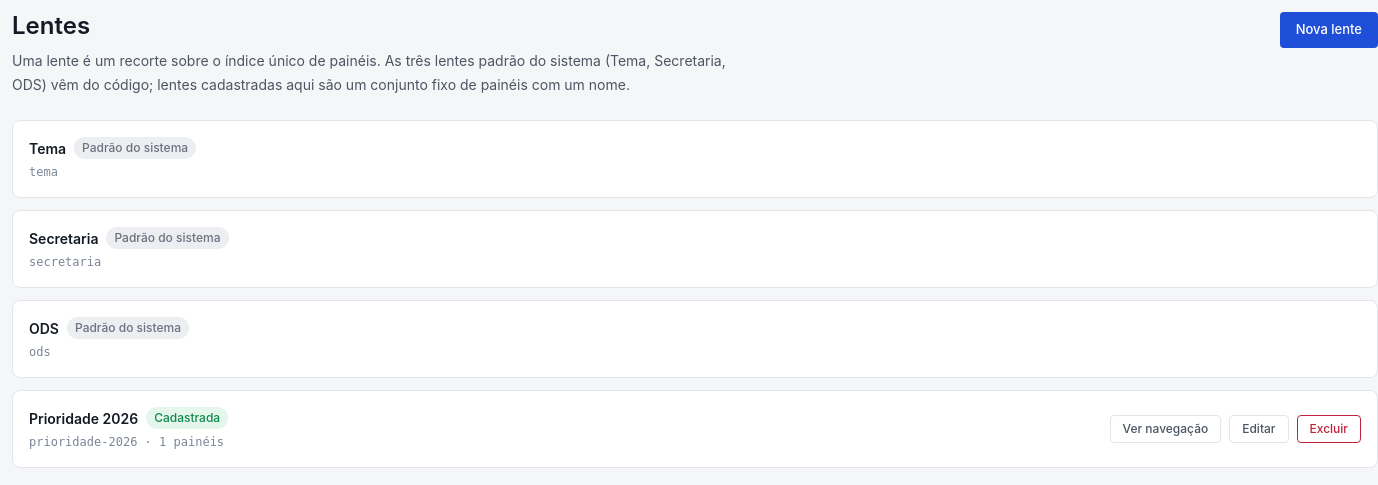
Test case: AdminLensesPage › exclui uma lente cadastrada após confirmação
The image size is (1378, 485).
Click the button "Excluir". click: (1329, 429)
box: top-left (1296, 415), bottom-right (1361, 443)
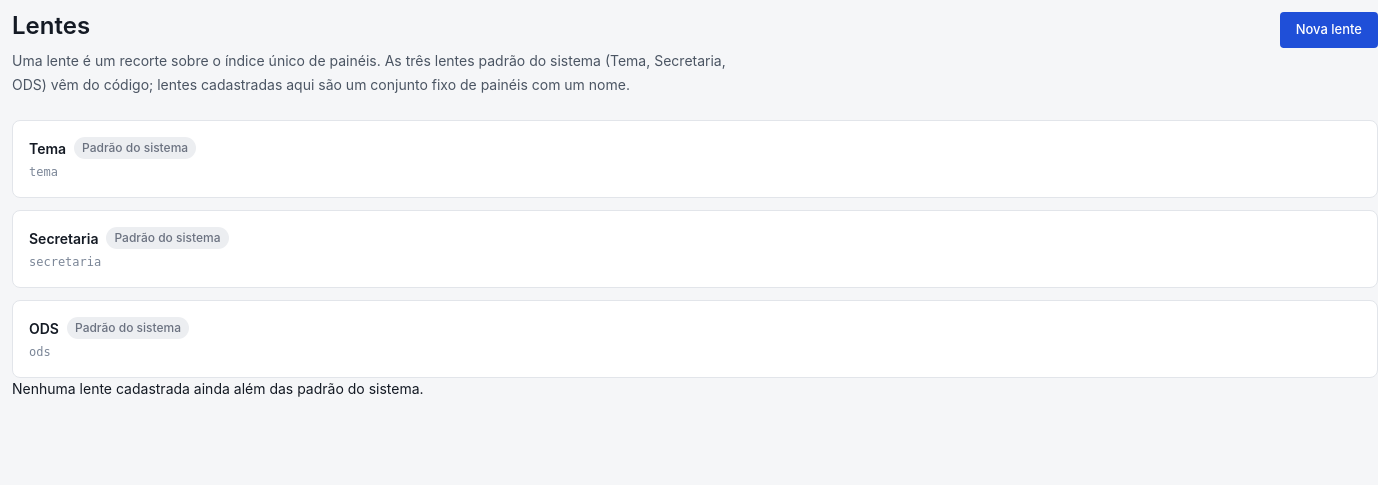
Check: the text "Prioridade 2026" is gone
